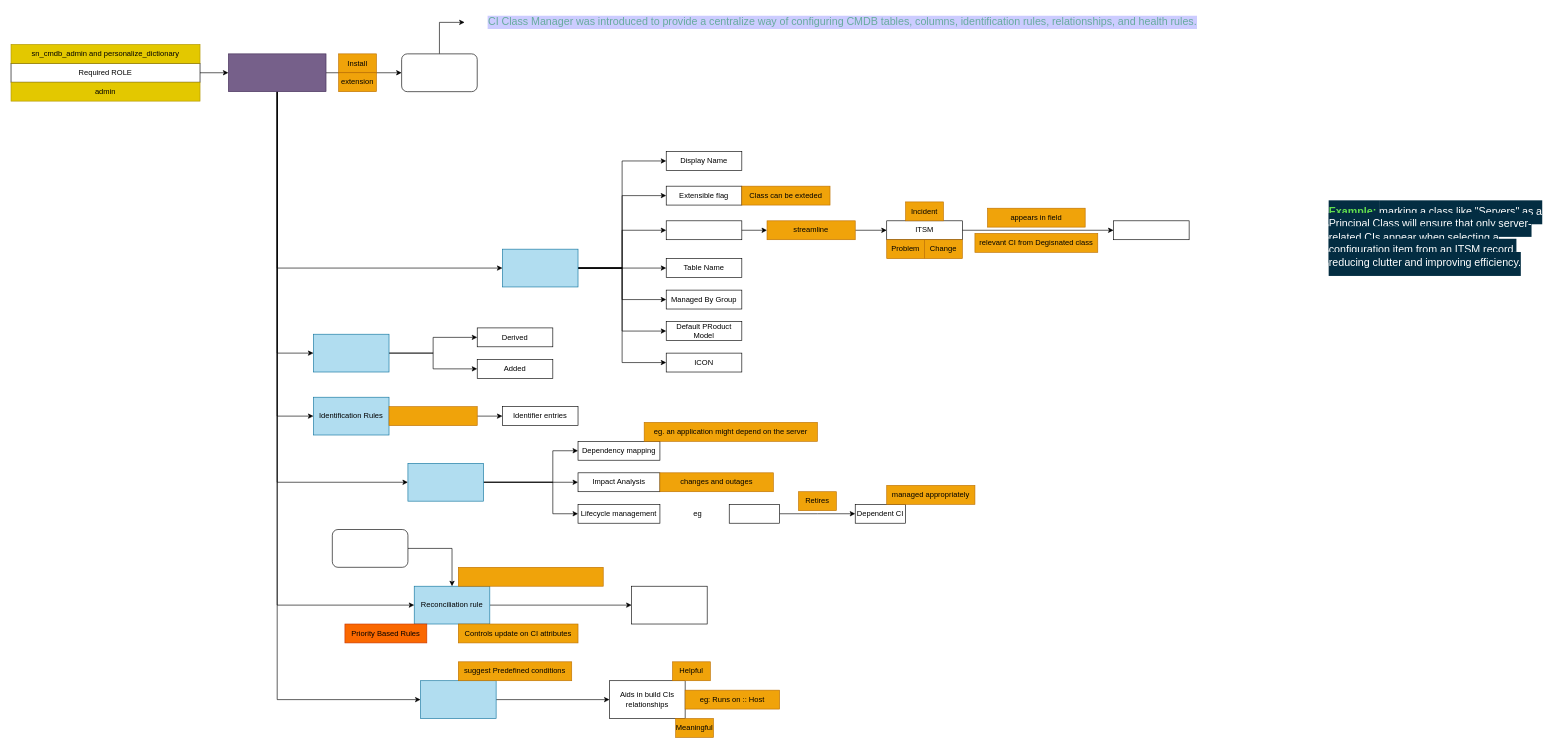
This 1566x748 diagram has some shape labels left out. Here are the shapes that lost their labels. From the top down, the centre of each, then its label:
(x=277, y=72): CMDB CI Class Manager
(x=439, y=72): CMDB CI Class Model
(x=704, y=230): Principal class
(x=1151, y=230): Configuration Item
(x=540, y=268): Basic Info Tab
(x=351, y=353): Attributes
(x=432, y=416): Uniquely recognize a CI
(x=445, y=482): Dependency relationships
(x=754, y=513): CI
(x=370, y=548): Data Source
(x=530, y=576): Which data souce an update specific CI attribute
(x=669, y=605): CI updated
(x=458, y=699): Suggested Relationships
